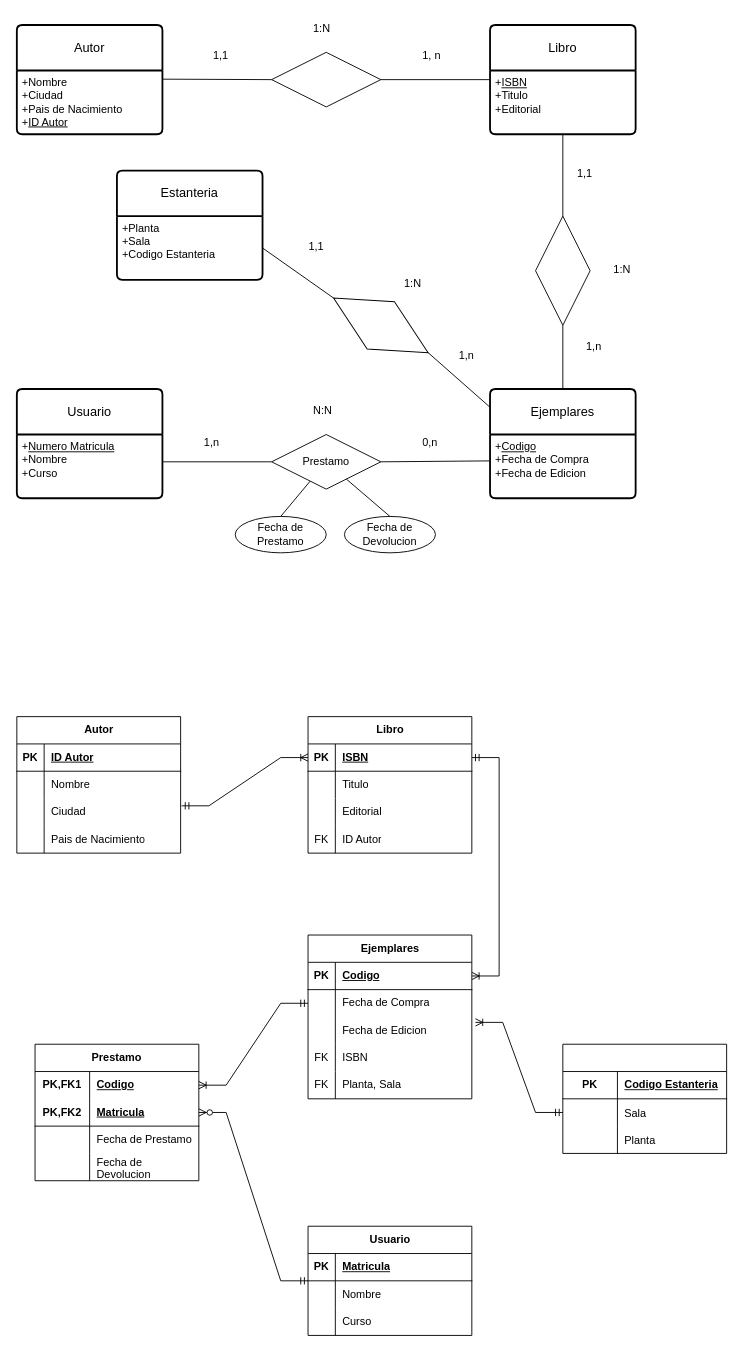
The diagram is 743 pixels wide and 1351 high, and some of its shapes have lost their labels. Here are the shapes that lost their labels. From the top down, the box of each, then its label:
(271, 51, 381, 107): Escribir
(535, 215, 590, 325): Existir
(319, 273, 442, 376): Almacenar
(562, 1043, 727, 1153): Estantería
